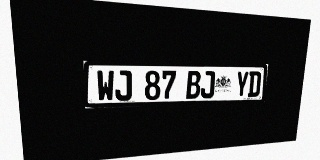7: (161, 71, 176, 100)
8: (145, 71, 161, 100)
B: (186, 71, 201, 99)
D: (247, 71, 261, 97)
J: (115, 70, 132, 101), (200, 71, 215, 98)
W: (96, 70, 115, 102)
Y: (235, 71, 249, 97)
